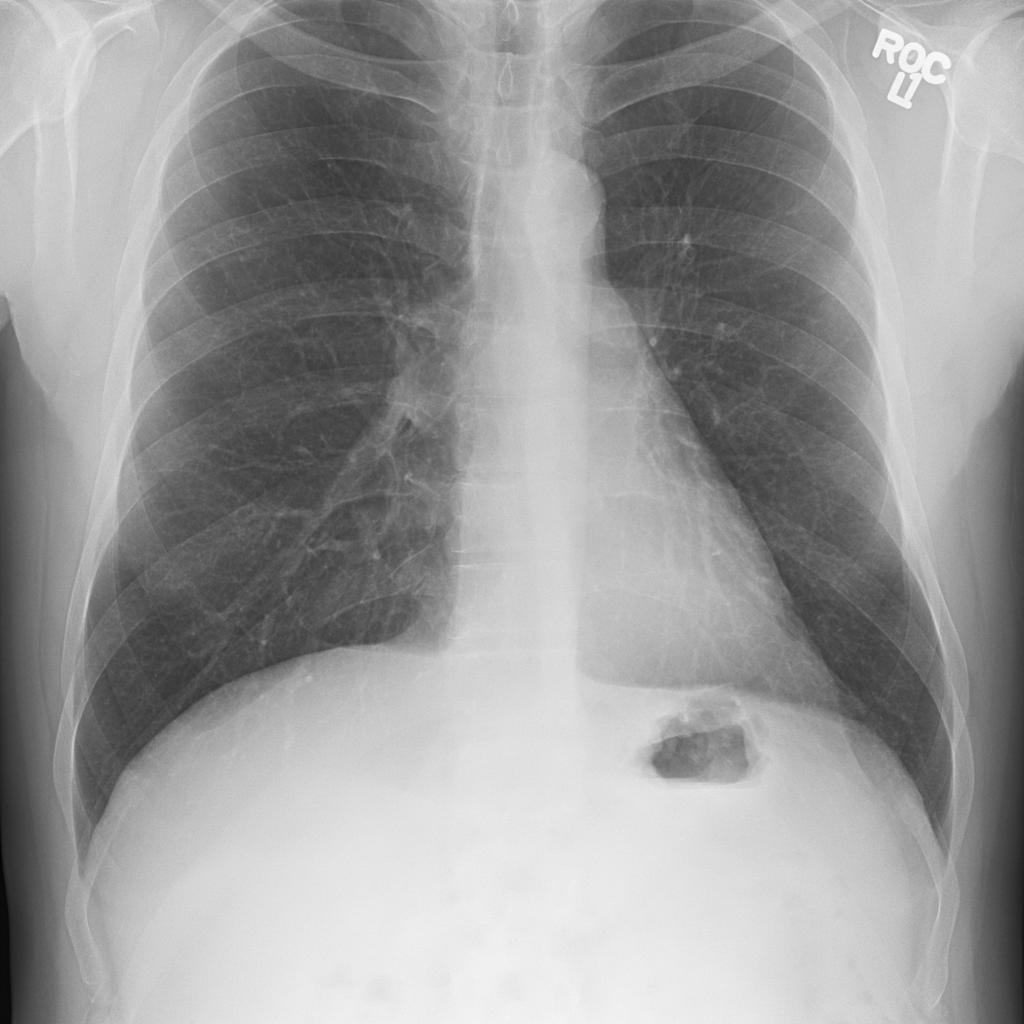Nodule: (194, 247, 237, 285), (200, 229, 223, 252)
